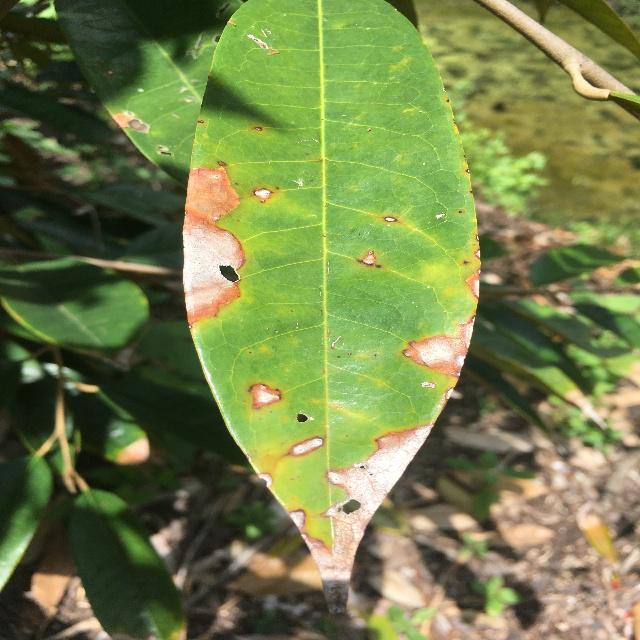Leaf Blight: (174, 0, 489, 638)
